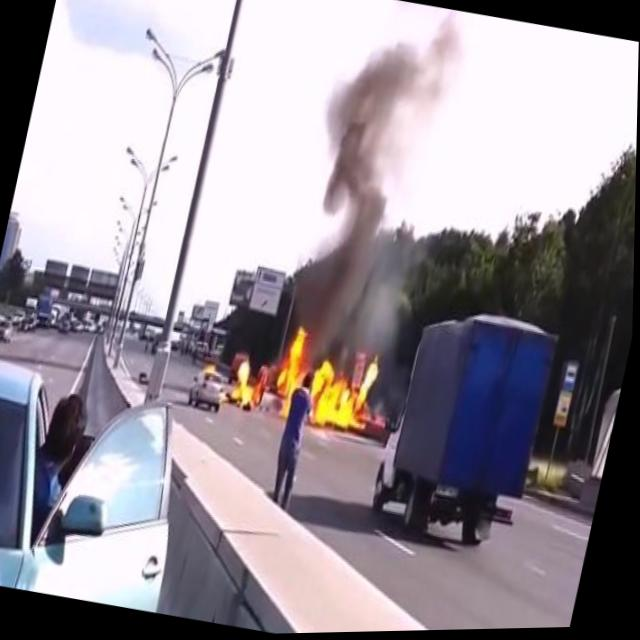fire: (266, 314, 391, 442), (226, 355, 267, 411)
